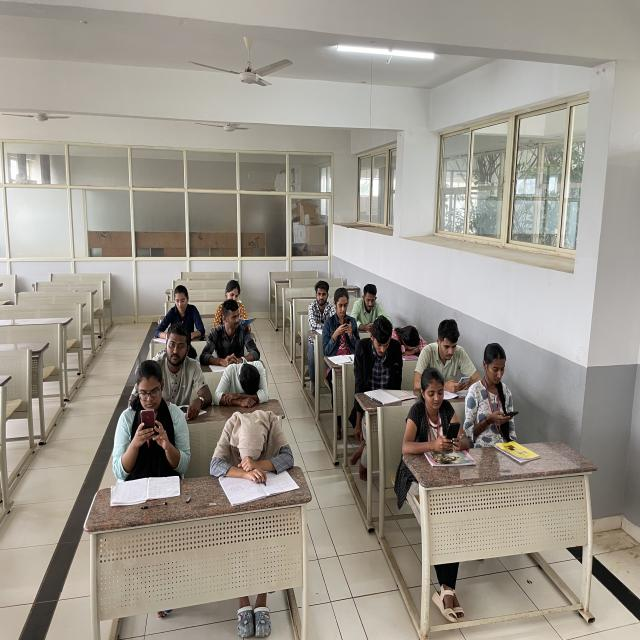Reading: (351, 314, 414, 407)
Sleeping: (208, 403, 294, 494), (214, 355, 274, 412), (394, 315, 431, 361)
Using Phone: (110, 354, 190, 486), (396, 362, 470, 471), (464, 336, 524, 451), (418, 316, 476, 390), (322, 286, 362, 356), (351, 282, 390, 331)
Writing: (156, 324, 212, 421)
